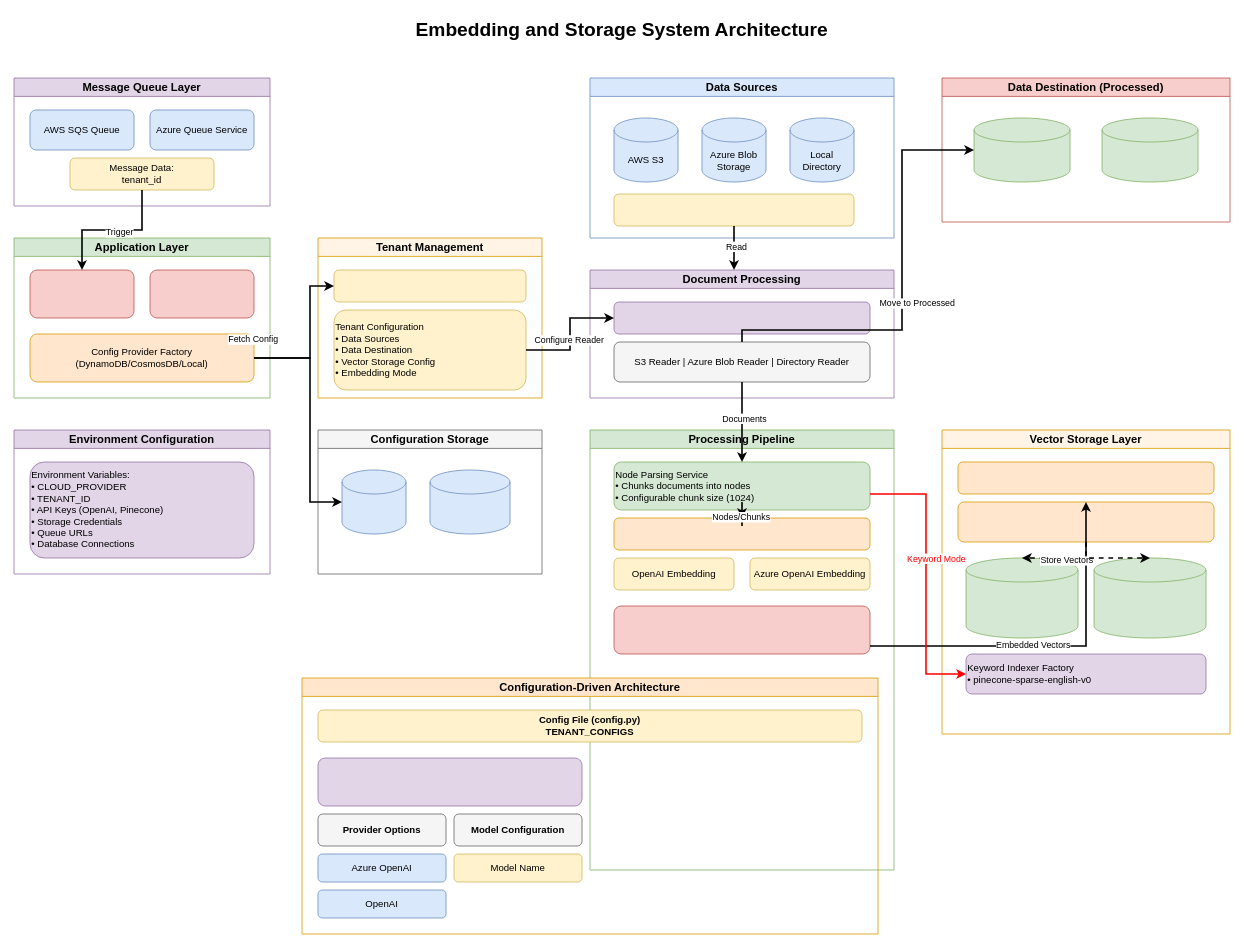
This 1244x948 diagram has some shape labels left out. Here are the shapes that lost their labels. From the top down, the centre of each, then its label:
(x=1021, y=149): S3 Bucket Green Zone (Processed)
(x=1149, y=149): Azure Blob Processed Container
(x=733, y=209): Markdown Documents
(x=81, y=293): Lambda Handler (AWS)
(x=201, y=293): Main Function (Local/Docker)
(x=429, y=285): Tenant Entity
(x=741, y=317): Reader Factory
(x=1085, y=477): Vector Store Factory
(x=373, y=501): AWS DynamoDB
(x=469, y=501): Azure CosmosDB
(x=1085, y=521): Index Manager • Creates semantic indices • Creates keyword indices
(x=741, y=533): Embedding Model
(x=1021, y=597): Pinecone • Dense Index • Keyword Index
(x=1149, y=597): OpenSearch Serverless • Vector Store • Keyword Search
(x=741, y=629): Embedding Modes: • Semantic Only • Keyword Only • Hybrid (Both)
(x=449, y=781): Embedding Configuration
